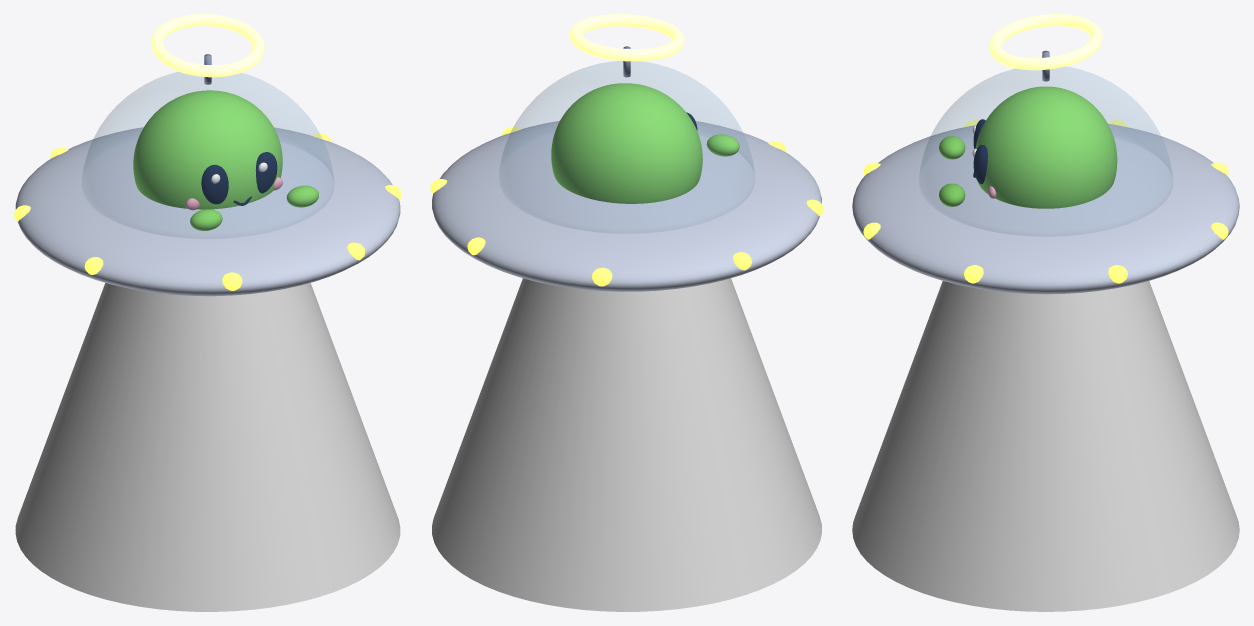
The model's file is Mascot_Halo.fbx.
3 views of the same model, side by side, from view 1: azimuth 30°, elevation 25°; view 2: azimuth 150°, elevation 25°; view 3: azimuth 270°, elevation 25° (orthographic).
Parts seen in each view (by area): view 1: Signal Beam, Saucer, Dome, Alien Head, Halo Ring, Eye L, Eye R, Hand R, Hand L; view 2: Signal Beam, Saucer, Dome, Alien Head, Halo Ring, Hand L; view 3: Signal Beam, Saucer, Dome, Alien Head, Halo Ring.
Part boxes in pixels (box(x1,y1,x2,y2)): Signal Beam: box(15, 283, 400, 611); Saucer: box(15, 127, 400, 296); Dome: box(82, 72, 333, 238); Alien Head: box(133, 90, 282, 209); Halo Ring: box(151, 14, 264, 77); Eye L: box(201, 164, 228, 204); Eye R: box(255, 152, 277, 193); Hand R: box(286, 185, 318, 207); Hand L: box(190, 209, 222, 230); Signal Beam: box(432, 278, 821, 611); Saucer: box(432, 120, 821, 291); Dome: box(499, 61, 754, 232); Alien Head: box(551, 83, 702, 203); Halo Ring: box(569, 14, 684, 61); Hand L: box(706, 134, 739, 156); Signal Beam: box(852, 281, 1239, 611); Saucer: box(852, 123, 1239, 294); Dome: box(919, 66, 1172, 235); Alien Head: box(975, 86, 1117, 208); Halo Ring: box(989, 14, 1102, 70).
Size of the model in its own units: 3.8 by 5.39 by 3.8.
